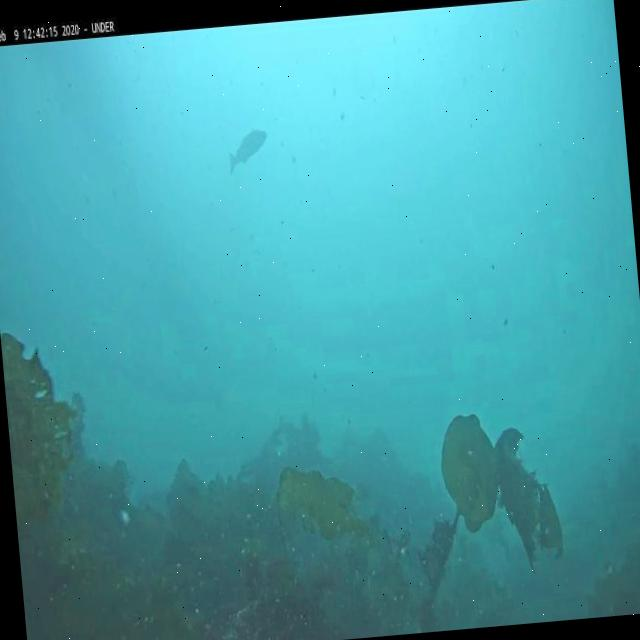fish: (227, 126, 270, 172)
